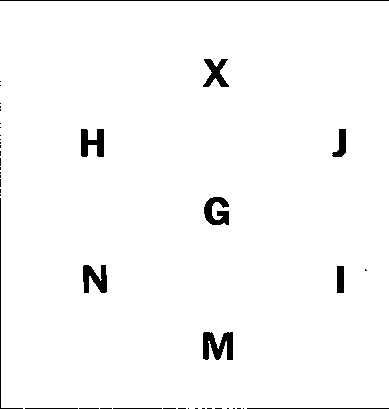I: (329, 259, 353, 301)
